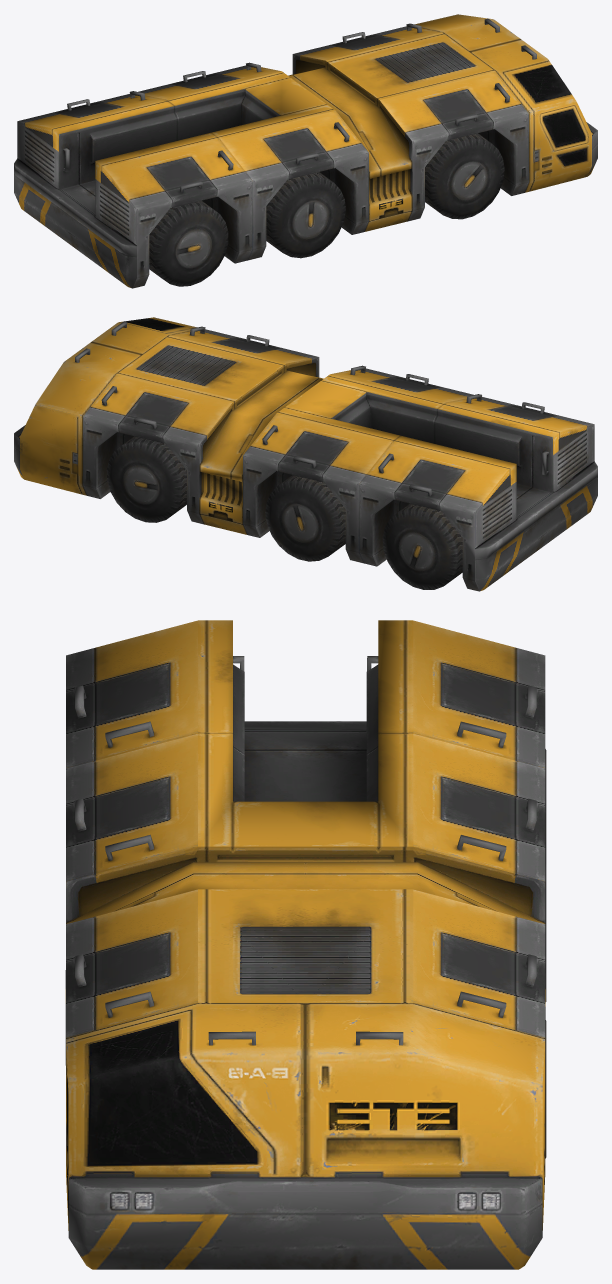
Rendered from MiningVehicle01.FBX.
The picture shows the model from 3 angles, top to bottom: view 1: azimuth 30°, elevation 25°; view 2: azimuth 150°, elevation 25°; view 3: azimuth 270°, elevation 25°; orthographic projection. The views are drawn at different scales.
Parts seen in each view (by area): view 1: MiningVehicle01; view 2: MiningVehicle01; view 3: MiningVehicle01.
Part boxes in pixels (bbox=[...]): MiningVehicle01: bbox=[14, 14, 597, 288]; MiningVehicle01: bbox=[14, 317, 597, 591]; MiningVehicle01: bbox=[65, 620, 546, 1269].
Bounding box in the file's own units: 8.99 × 2.09 × 3.93.
